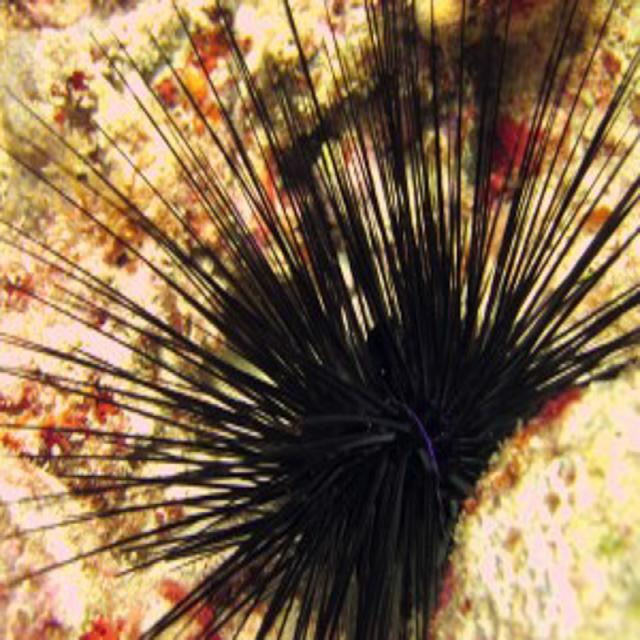Urchin: (15, 2, 635, 630)
